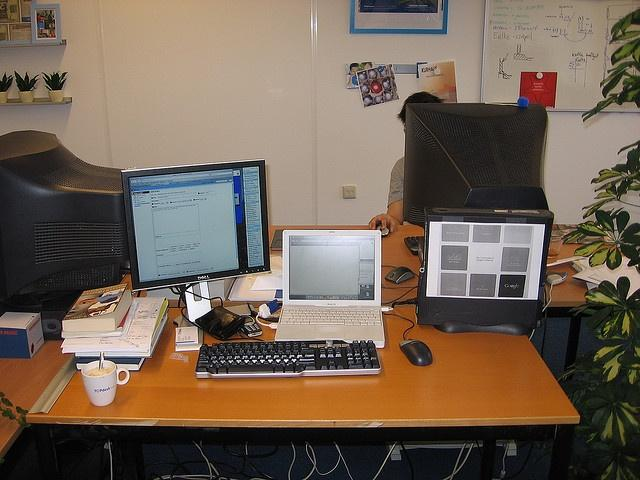AIO PC-Monitor-TV: (121, 158, 270, 291)
Meja: (23, 305, 579, 443)
